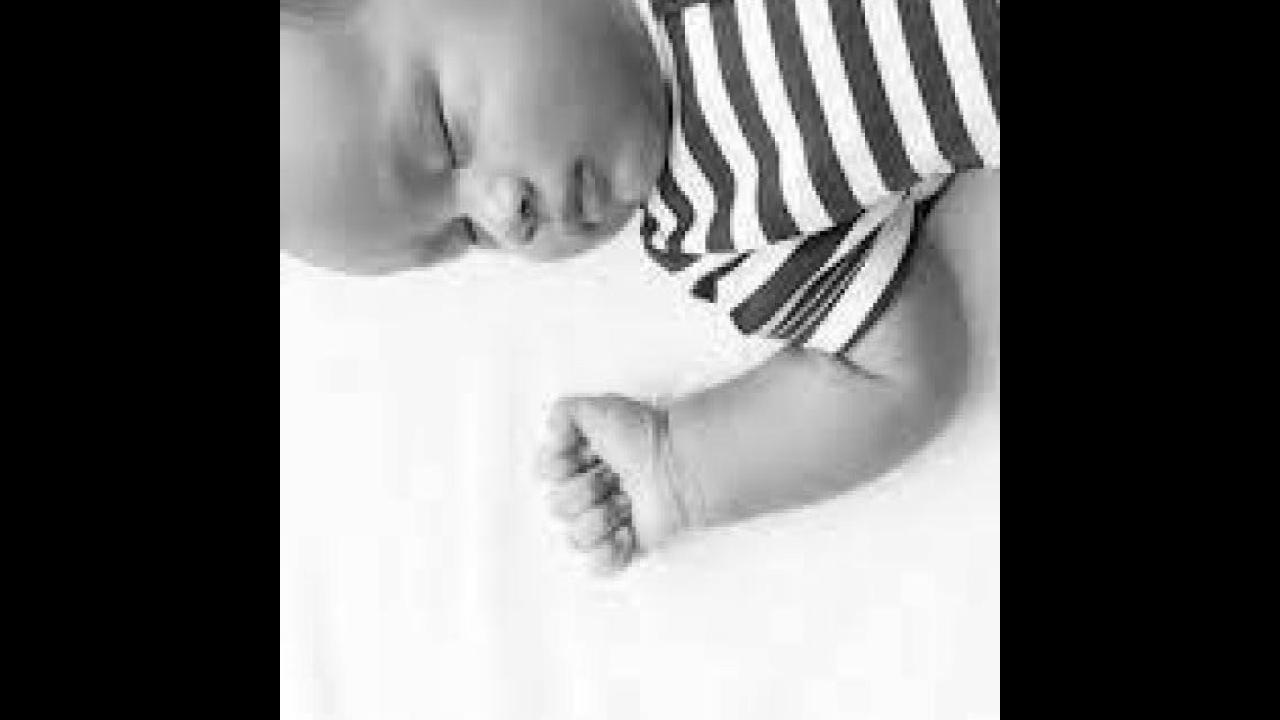hand: (531, 377, 677, 583)
